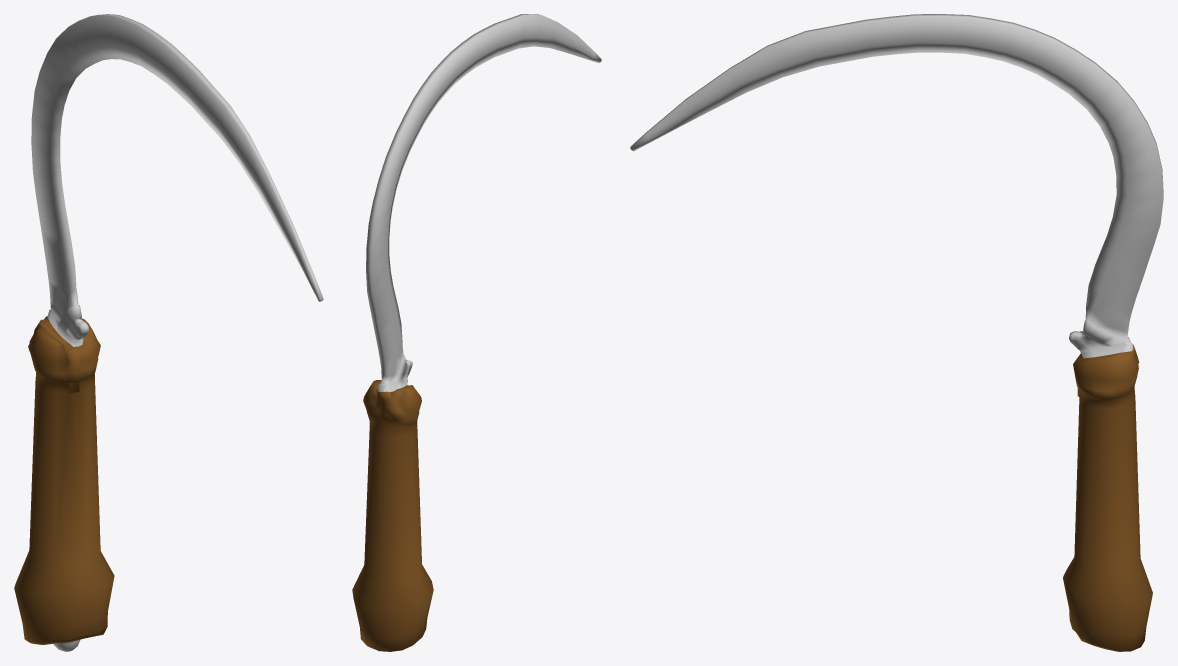
Rendered from sickle.fbx.
3 renders of one model, left to right at view 1: azimuth 30°, elevation 25°; view 2: azimuth 150°, elevation 25°; view 3: azimuth 270°, elevation 25°, orthographic. The views are drawn at different scales.
Visible parts, largest first — view 1: Sickle_low; view 2: Sickle_low; view 3: Sickle_low.
Part boxes in pixels (<box>): Sickle_low: <box>14,14,323,651</box>; Sickle_low: <box>352,14,601,651</box>; Sickle_low: <box>630,14,1163,651</box>.
Bounding box in the file's own units: 6.8 × 49.57 × 37.92.
